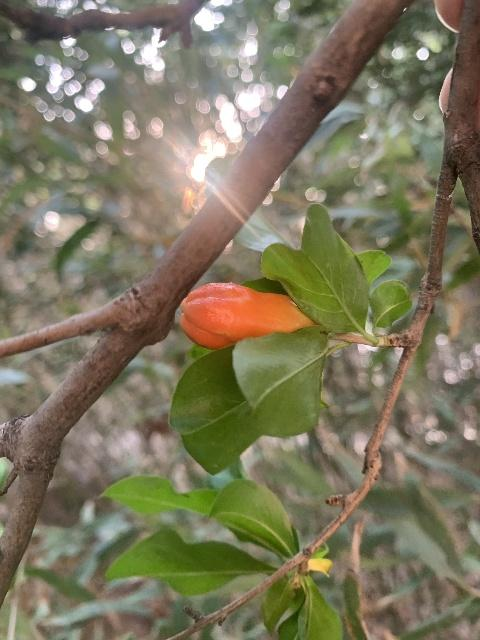bud: (178, 282, 314, 348)
